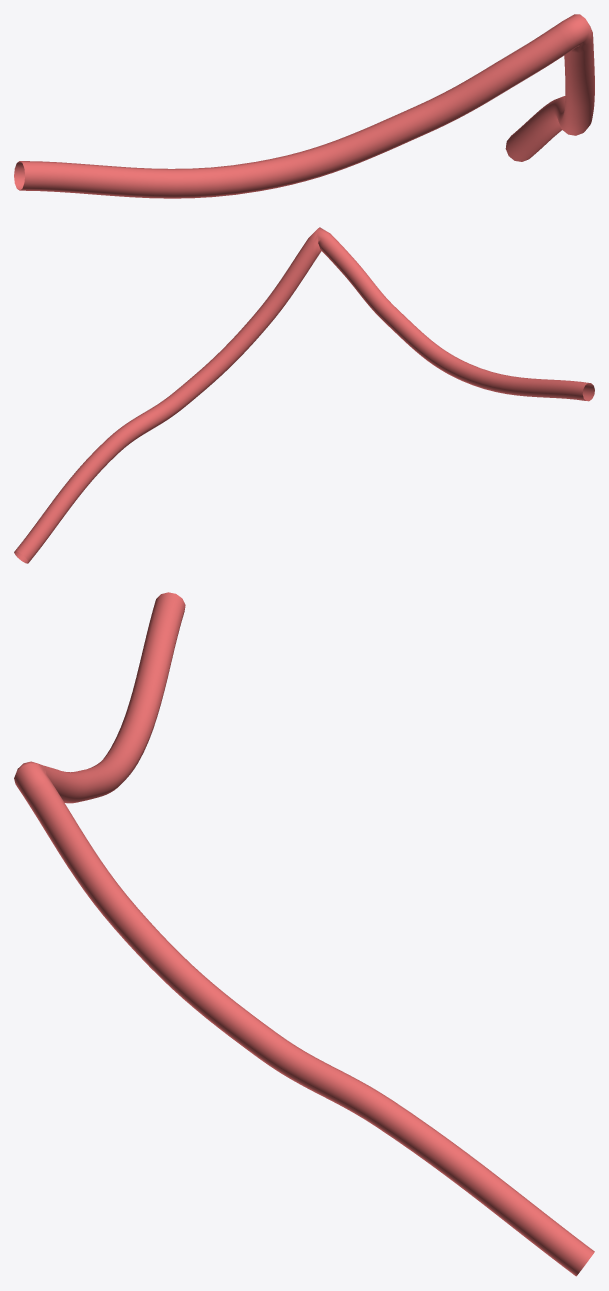
File: Plantar_arch.l_BezierCurve.184.glb
The picture shows the model from 3 angles, top to bottom: view 1: azimuth 30°, elevation 25°; view 2: azimuth 150°, elevation 25°; view 3: azimuth 270°, elevation 25°; orthographic projection. The views are drawn at different scales.
Parts seen in each view (by area): view 1: Plantar_arch.l_BezierCurve.184; view 2: Plantar_arch.l_BezierCurve.184; view 3: Plantar_arch.l_BezierCurve.184.
Part boxes in pixels (x1,y1,x2,y2): Plantar_arch.l_BezierCurve.184: (14,14,594,198); Plantar_arch.l_BezierCurve.184: (14,227,594,563); Plantar_arch.l_BezierCurve.184: (14,592,594,1276).
Size of the model in its own units: 0.0443 by 0.023 by 0.0298.
